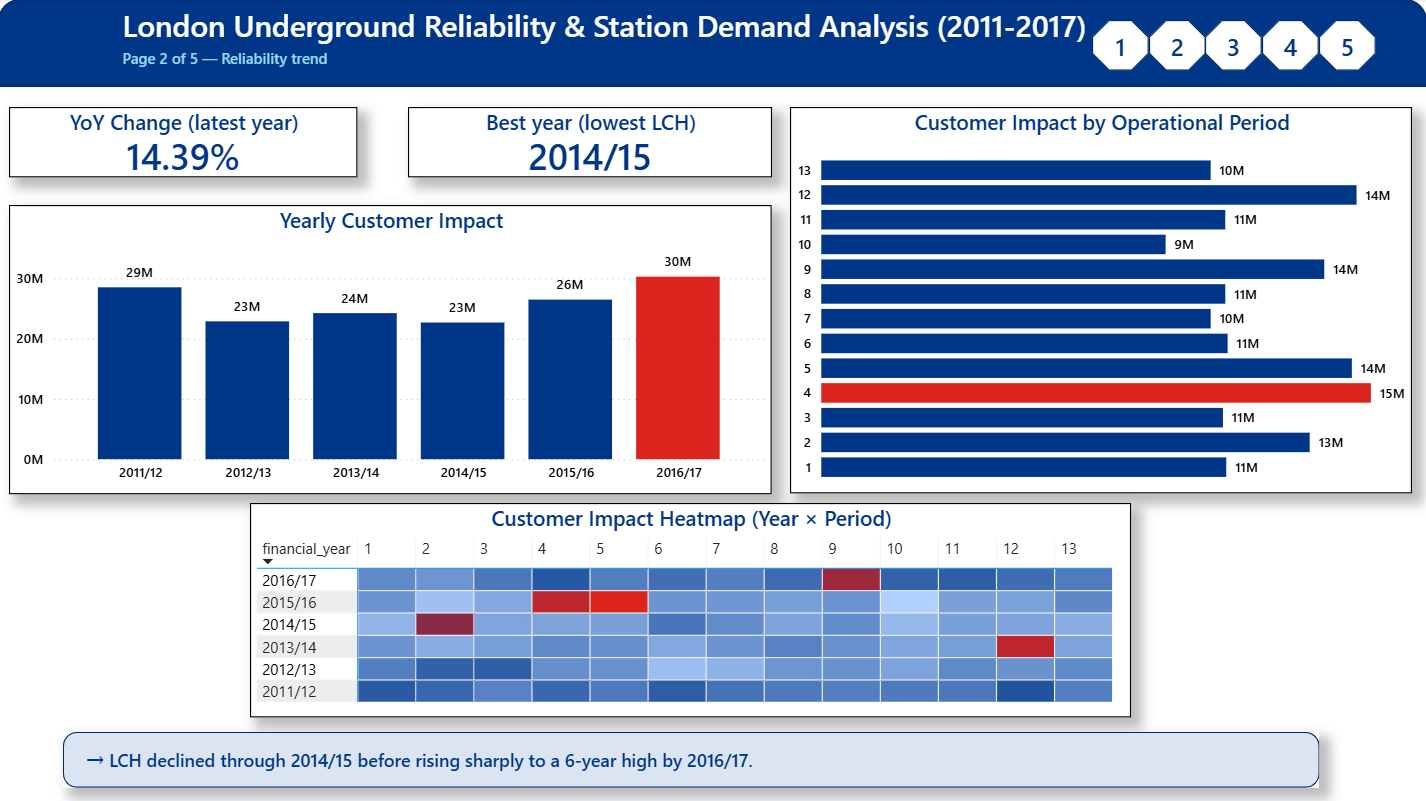

Layout of this report page (visuals, bound fields, positions):
{"tool":"powerbi","page":{"name":"Reliability","canvas":[1280,720],"ordinal":1},"visuals":[{"type":"shape","box":[979.8,19.2,50.8,45.3],"z":0,"group":"g4"},{"type":"clusteredColumnChart","title":"Yearly Customer Impact","fields":{"Category":["london clean_lost_customer_hours.financial_year"],"Y":["Sum(london clean_lost_customer_hours.lost_customer_hours)"]},"box":[10.2,184.3,683.3,258.6],"z":0},{"type":"shape","box":[1030.6,19.2,50.8,45.3],"z":1000,"group":"g4"},{"type":"clusteredBarChart","title":"Customer Impact by Operational Period","fields":{"Category":["london clean_lost_customer_hours.period"],"Y":["Sum(london_clean_lost_customer_hours.lost_customer_hours)"]},"box":[709.5,96.5,557.3,346.4],"z":1000},{"type":"shape","box":[1081.4,19.2,50.8,45.3],"z":2000,"group":"g4"},{"type":"pivotTable","title":"Customer Impact Heatmap (Year × Period)","fields":{"Rows":["london_clean_lost_customer_hours.financial_year"],"Columns":["london_clean_lost_customer_hours.period"],"Values":["london_clean_lost_customer_hours.Total Hours"]},"box":[226.1,451.1,789.2,192.5],"z":2000},{"type":"shape","box":[1132.1,19.2,50.8,45.3],"z":3000,"group":"g4"},{"type":"card","title":"YoY Change (latest year)","fields":{"Values":["DateTable.YoY Change (Latest Year)"]},"box":[9.9,96.5,311.8,63.1],"z":3000},{"type":"shape","box":[1182.9,19.2,50.8,45.3],"z":4000,"group":"g4"},{"type":"card","title":"Best year (lowest LCH)","fields":{"Values":["DateTable.Best Year"]},"box":[367.4,96.5,326,63.1],"z":4000},{"type":"textbox","box":[214,0,1065.7,78.8],"z":5000},{"type":"group","id":"g1","title":"Group 1","box":[0,0,1279.7,78.8],"z":6000},{"type":"shape","box":[0,0,1279.7,78.8],"z":6000,"group":"g1"},{"type":"textbox","box":[106.5,0,1173.5,49.4],"z":7000,"group":"g1"},{"type":"textbox","box":[96.7,128.1,61.8,2.3],"z":7000,"group":"g3"},{"type":"group","id":"g2","title":"Group 2","box":[58,656.8,1125.2,53],"z":7000},{"type":"textbox","box":[106.5,39.4,465.5,39.4],"z":8000,"group":"g1"},{"type":"group","id":"g3","title":"Group 1","box":[96.7,128.1,61.8,11.6],"z":8000},{"type":"textbox","box":[124.9,131.8,1.6,8],"z":8000,"group":"g3"},{"type":"group","id":"g4","title":"Group 3","box":[979.8,19.2,253.9,45.3],"z":9000},{"type":"shape","box":[58,656.8,1125.2,49.9],"z":10000,"group":"g2"},{"type":"textbox","box":[72.3,660.8,1047.8,48.9],"z":11000,"group":"g2"}]}

Visuals, with their boxes in screenshot pixels (x1, y1, x2, y2), scaled from the page's 1280x720 canvas onto the 1426x801 screenshot:
shape: crop(1092, 21, 1148, 72)
"Yearly Customer Impact" clusteredColumnChart: crop(11, 205, 773, 493)
shape: crop(1148, 21, 1205, 72)
"Customer Impact by Operational Period" clusteredBarChart: crop(790, 107, 1411, 493)
shape: crop(1205, 21, 1261, 72)
"Customer Impact Heatmap (Year × Period)" pivotTable: crop(252, 502, 1131, 716)
shape: crop(1261, 21, 1318, 72)
"YoY Change (latest year)" card: crop(11, 107, 358, 178)
shape: crop(1318, 21, 1374, 72)
"Best year (lowest LCH)" card: crop(409, 107, 772, 178)
textbox: crop(238, 0, 1425, 88)
"Group 1" group: crop(0, 0, 1425, 88)
shape: crop(0, 0, 1425, 88)
textbox: crop(119, 0, 1425, 55)
textbox: crop(108, 143, 177, 145)
"Group 2" group: crop(65, 731, 1318, 790)
textbox: crop(119, 44, 637, 88)
"Group 1" group: crop(108, 143, 177, 155)
textbox: crop(139, 147, 141, 156)
"Group 3" group: crop(1092, 21, 1374, 72)
shape: crop(65, 731, 1318, 786)
textbox: crop(81, 735, 1248, 790)
